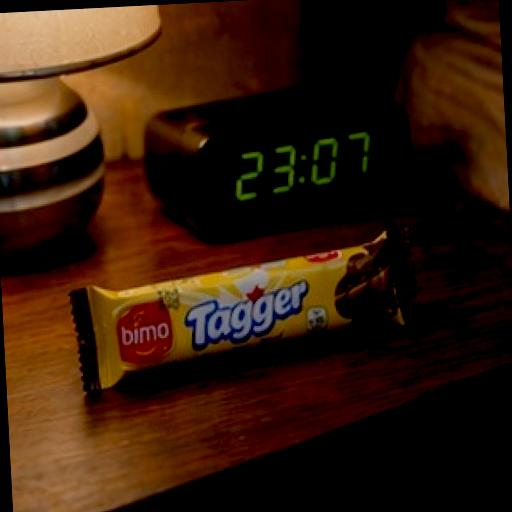tagger: (66, 246, 426, 378)
